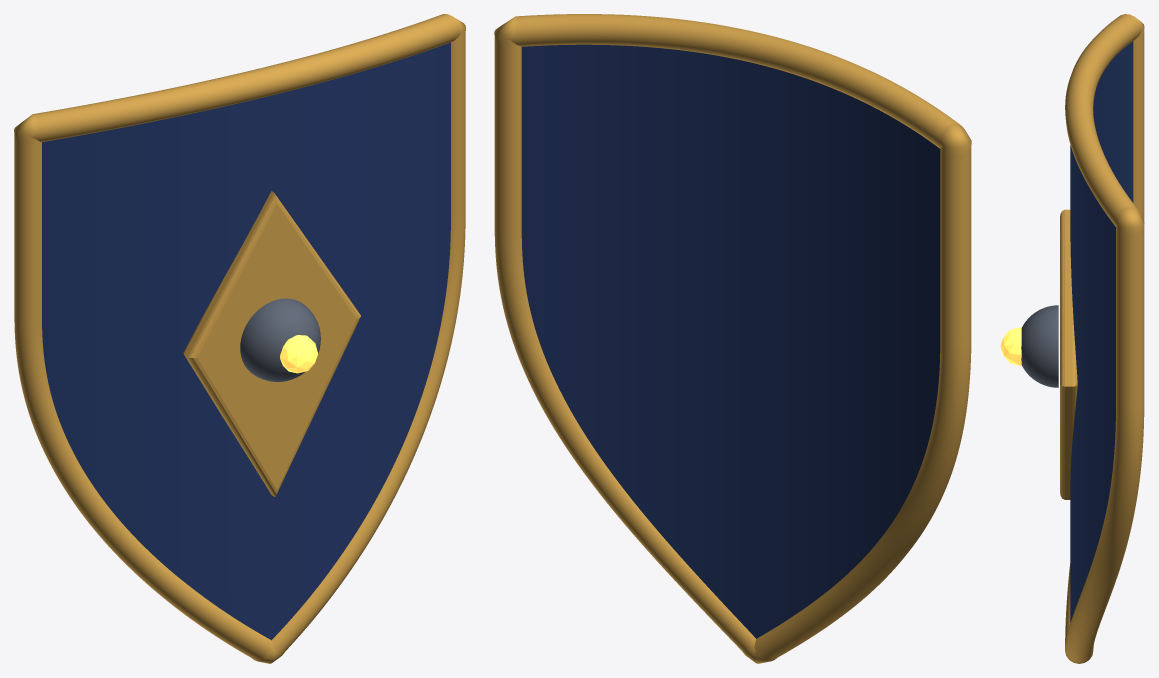
Rendered from shield.glb.
The picture shows the model from 3 angles, left to right: view 1: azimuth 30°, elevation 25°; view 2: azimuth 150°, elevation 25°; view 3: azimuth 270°, elevation 25°; orthographic projection. The views are drawn at different scales.
Visible parts, largest first — view 1: face, rim, emblem, boss, bossGem; view 2: face, rim; view 3: rim, face, emblem, boss, bossGem.
Boxes of the visible parts, x1,y1,x2,y2 form: face: [42, 42, 450, 640]; rim: [14, 14, 465, 663]; emblem: [183, 191, 360, 496]; boss: [240, 298, 320, 381]; bossGem: [280, 335, 317, 373]; face: [521, 44, 940, 638]; rim: [494, 14, 971, 663]; rim: [1065, 14, 1144, 663]; face: [1070, 41, 1133, 622]; emblem: [1060, 209, 1077, 499]; boss: [1021, 305, 1058, 387]; bossGem: [1000, 327, 1021, 365].
Size of the model in its own units: 1.91 by 2.42 by 0.5578.
